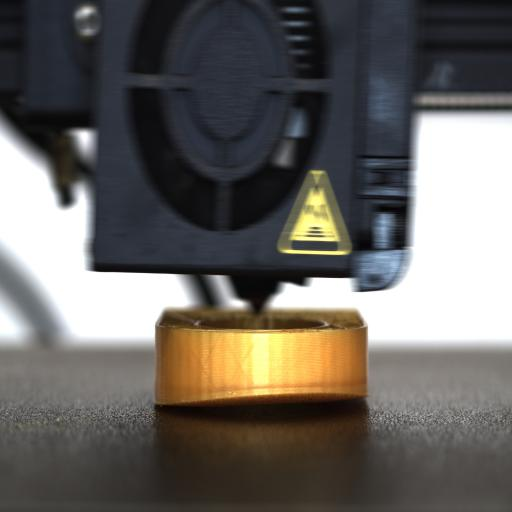warp: (154, 385, 364, 409)
